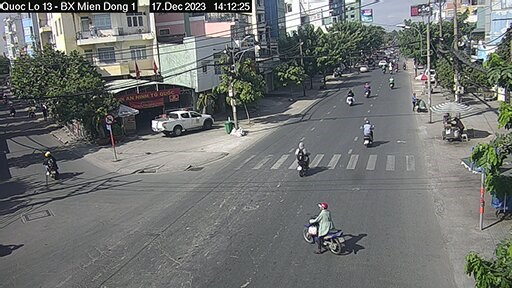car: (154, 106, 213, 136)
motorbike: (301, 203, 349, 261), (42, 150, 63, 179), (294, 142, 311, 174), (360, 121, 377, 150), (344, 85, 355, 107), (364, 80, 372, 100), (386, 76, 395, 91)
